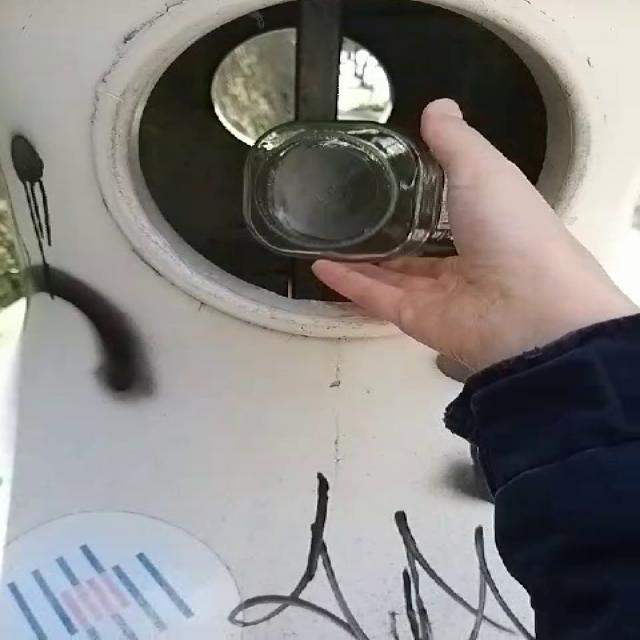Glass: (243, 120, 456, 261)
